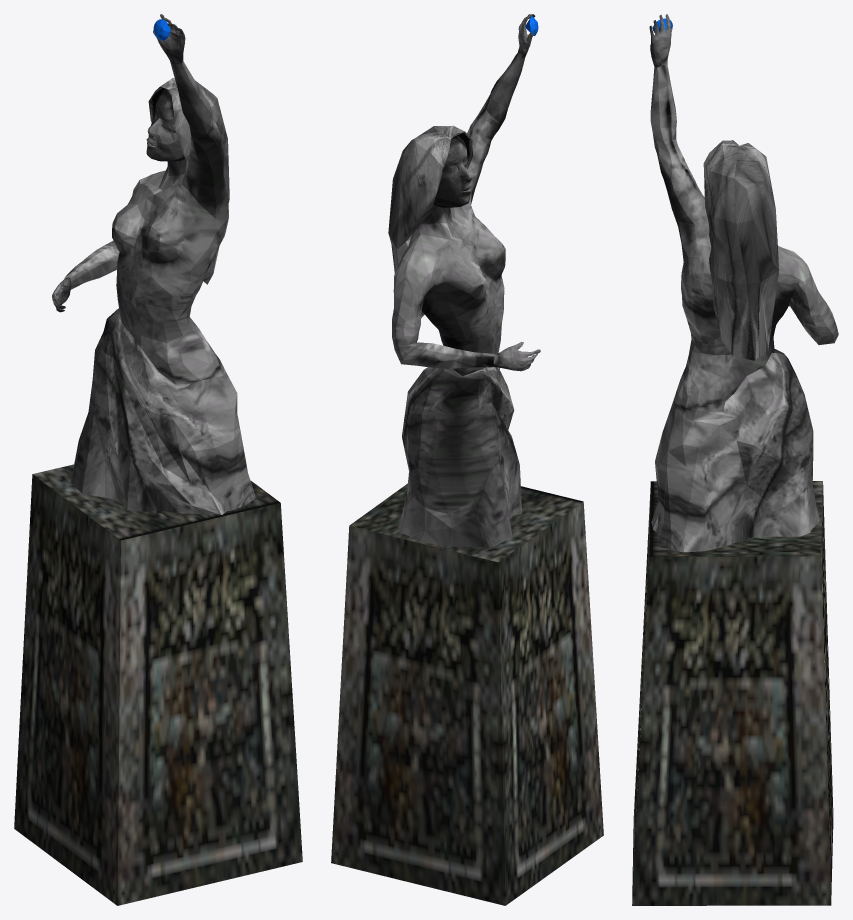
Rendered from RE Rebirth statue.obj.
3 views of the same model, side by side, from view 1: azimuth 30°, elevation 25°; view 2: azimuth 150°, elevation 25°; view 3: azimuth 270°, elevation 25° (orthographic). The views are drawn at different scales.
Parts seen in each view (by area): view 1: 00.004_Mesh.226_Mater; view 2: 00.004_Mesh.226_Mater; view 3: 00.004_Mesh.226_Mater.
Part boxes in pixels (left/top/right/bottom): 00.004_Mesh.226_Mater: left=14, top=14, right=302, bottom=905; 00.004_Mesh.226_Mater: left=331, top=14, right=603, bottom=905; 00.004_Mesh.226_Mater: left=632, top=14, right=838, bottom=905.
Bounding box in the file's own units: 0.0639 × 0.2844 × 0.0639.
Materials: 1 (1 with a texture image).
